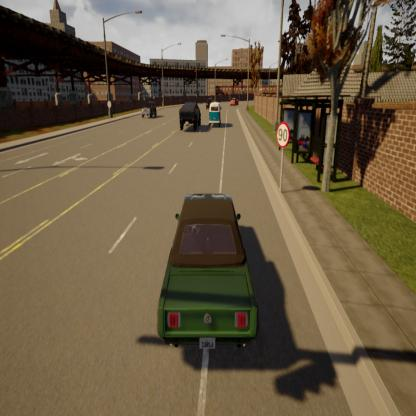Cars: (146, 189, 266, 362), (177, 100, 203, 134), (140, 100, 159, 122), (208, 103, 224, 129), (228, 95, 241, 110), (204, 95, 215, 110)
